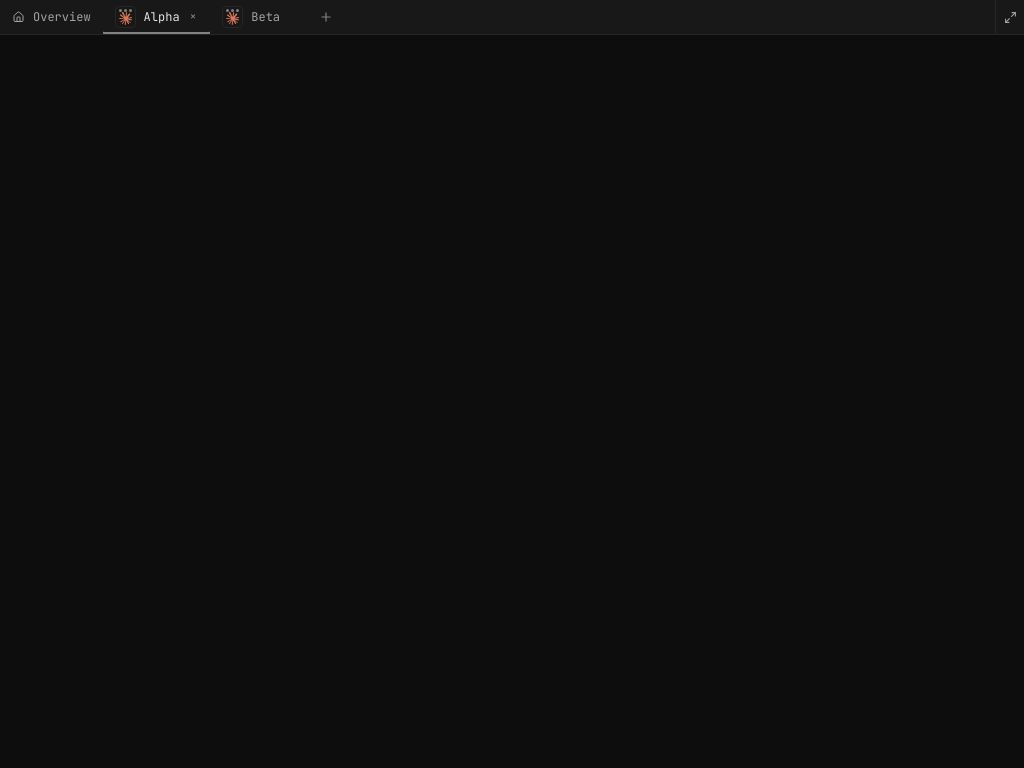
Test: TabsStrip › 4.T3a — canceling the direct-agent terminate dialog leaves the tab and open-tab set untouched
What coordinates should you click on to do the following:
click the button named "Terminate Alpha"
I would click on:
 (193, 16)
Its box is [190,9,196,23].
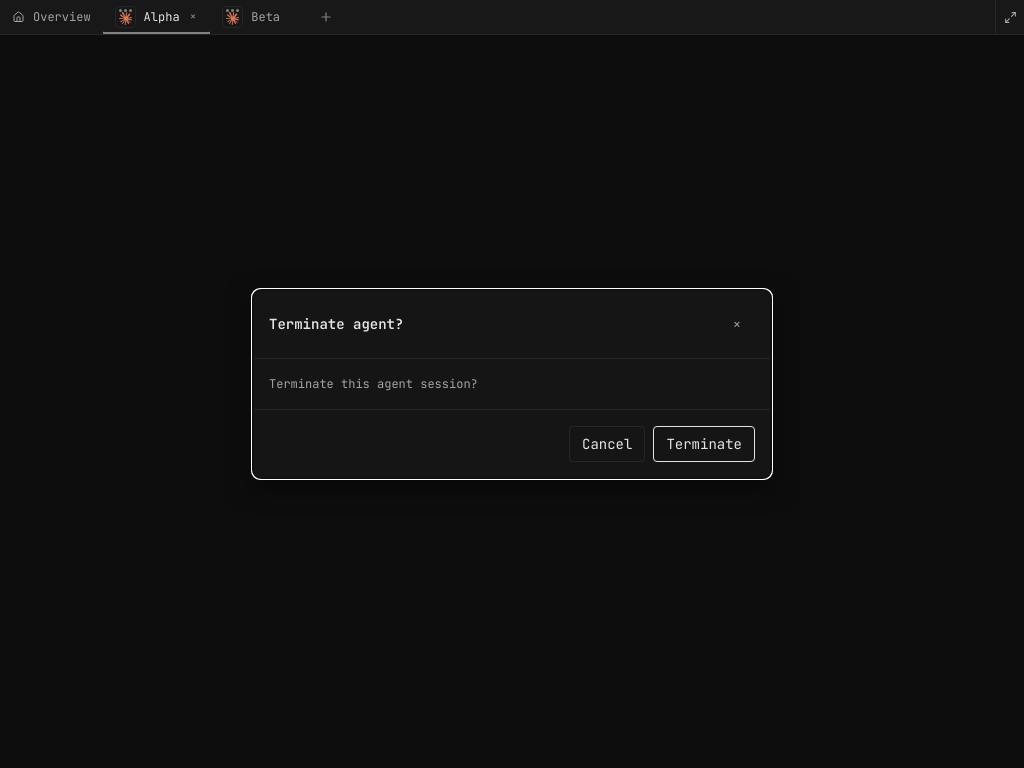
What coordinates should you click on to do the following:
click the button "Cancel"
I would click on:
 (607, 444)
Its box is [569,426,645,462].
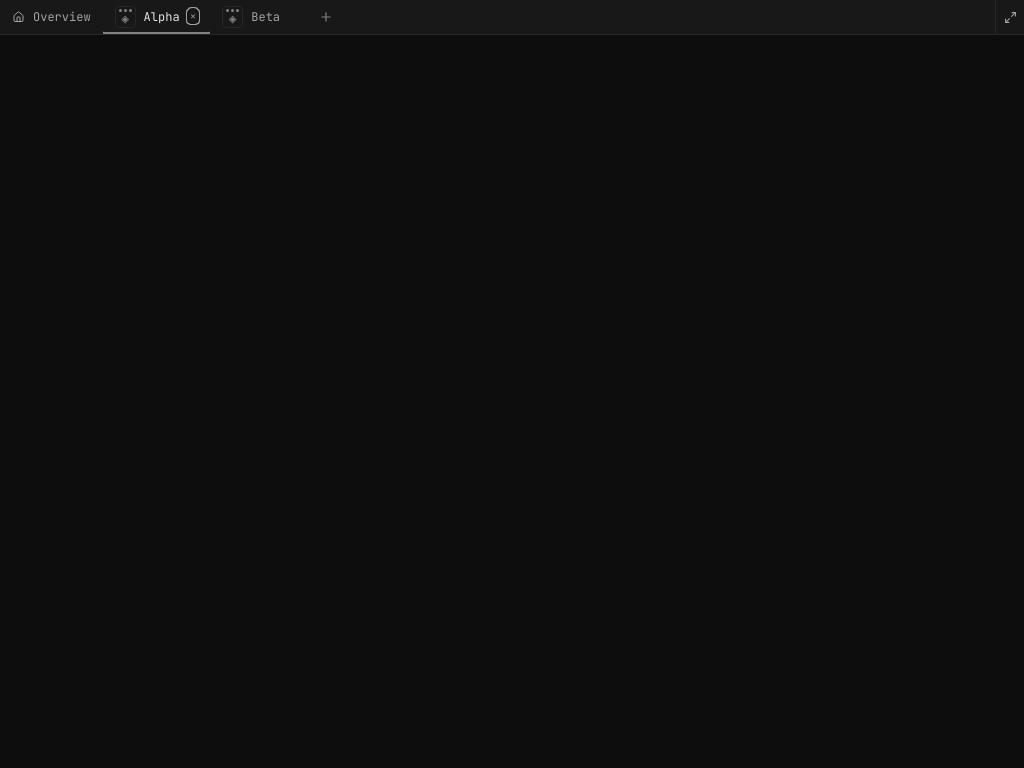
Expected: the dialog is gone
